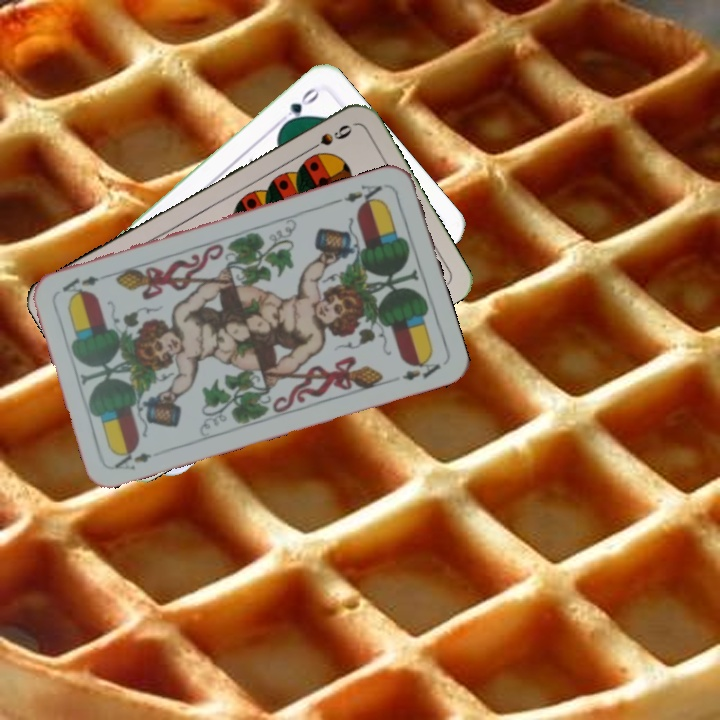EA: (331, 180, 385, 210), (110, 443, 155, 473)
GO: (273, 83, 323, 130)
S9: (301, 120, 355, 156)
